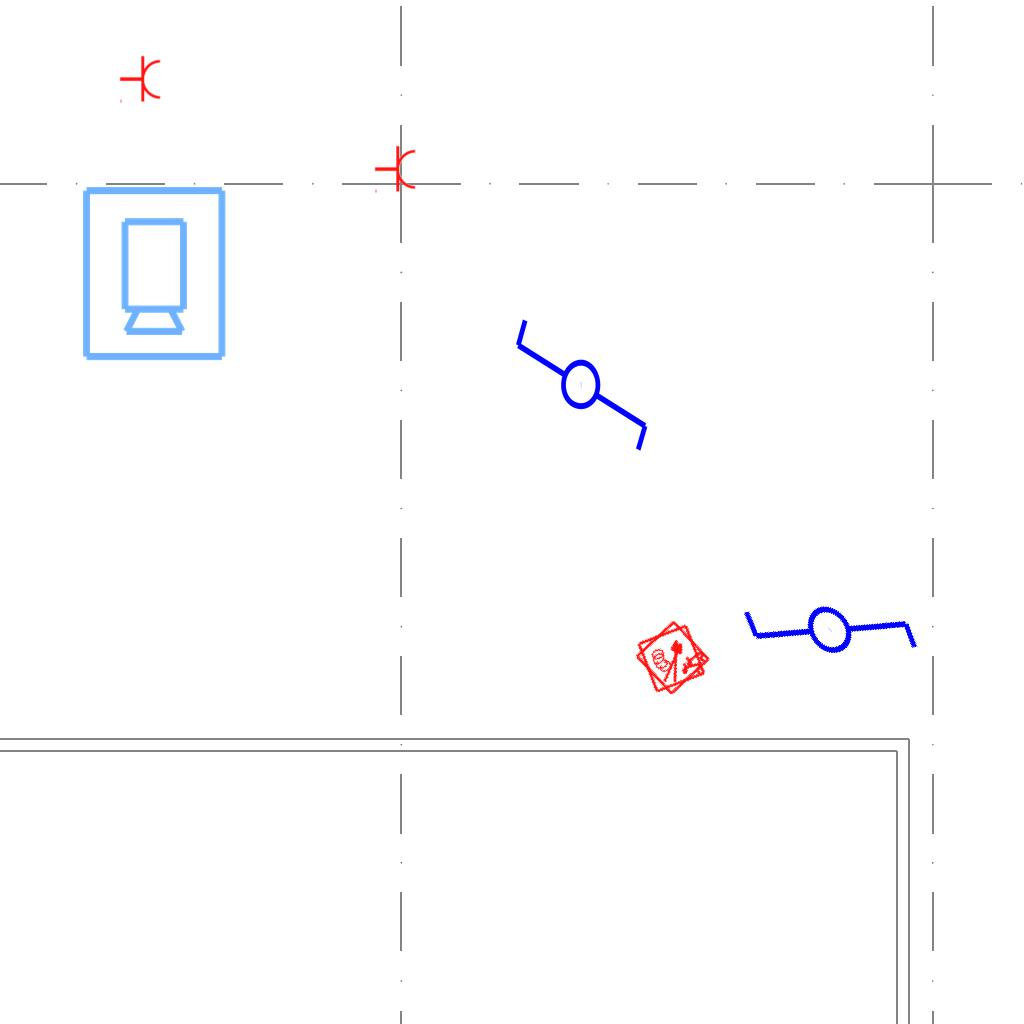KFO_Kamera_mit_Festobjektiv: (76, 182, 230, 364)
ROA_Rauchmelder_optisch_mit_Signalgeber_(Sockelsirene): (633, 617, 713, 697), (635, 621, 709, 695)
Schukosteckdose_einfach: (119, 55, 162, 105), (374, 145, 417, 195)
Wechselschalter: (721, 515, 932, 729), (511, 298, 655, 455)
